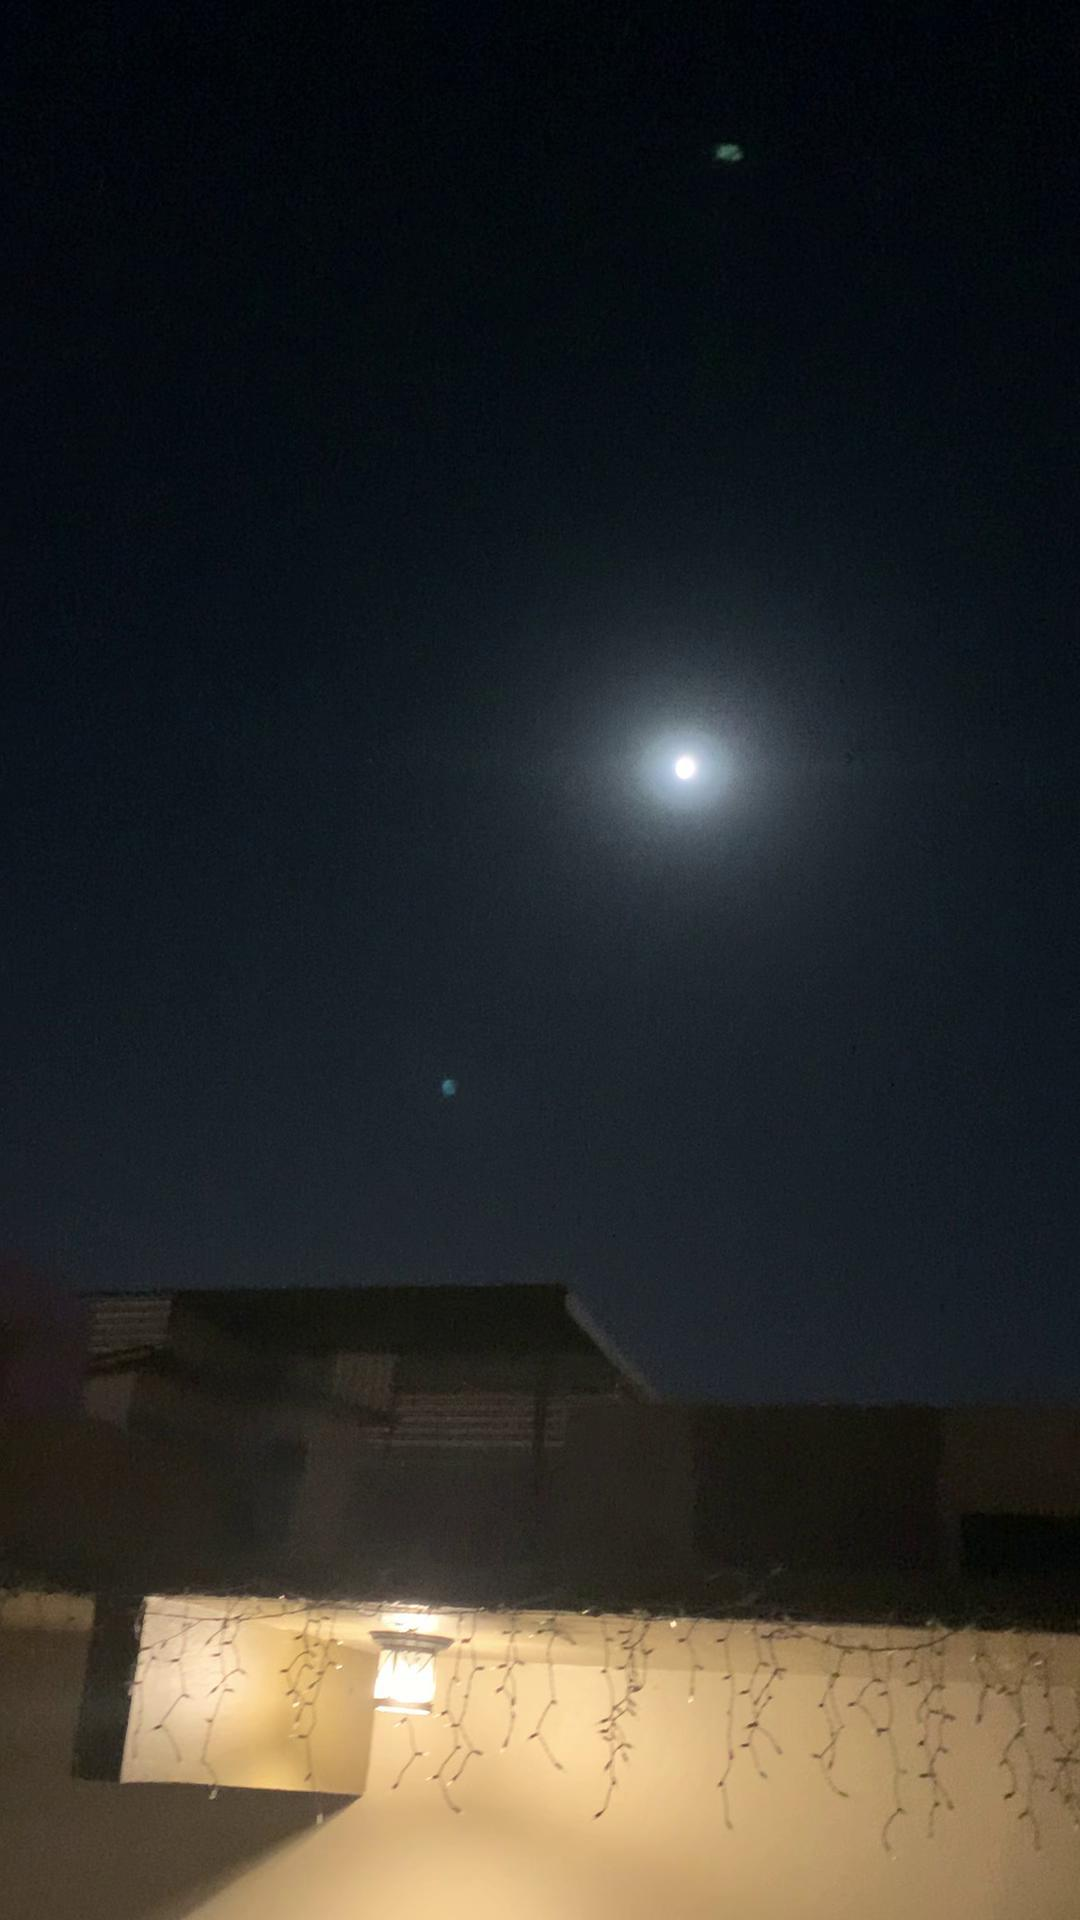moon: (641, 727, 728, 806)
